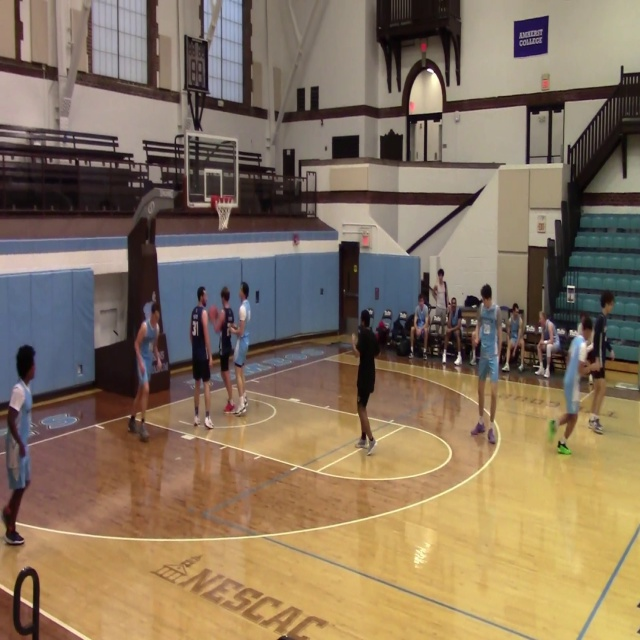Basketball: (208, 305, 218, 322)
